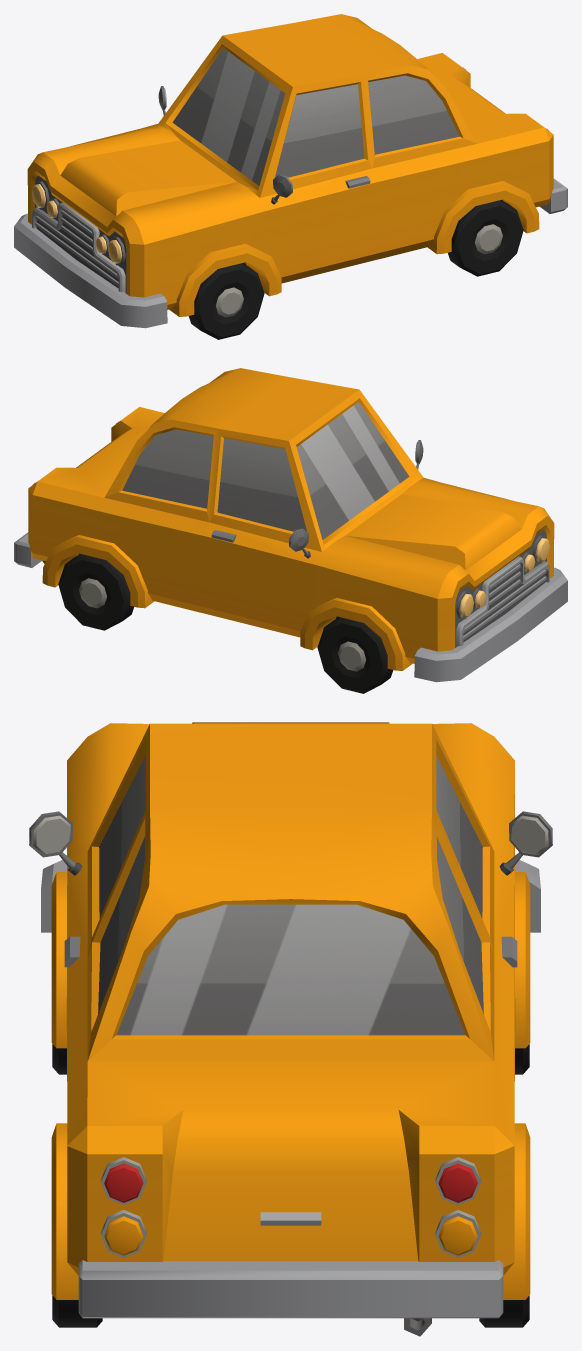
File: Car_7_D.gltf
3 renders of one model, top to bottom at view 1: azimuth 30°, elevation 25°; view 2: azimuth 150°, elevation 25°; view 3: azimuth 270°, elevation 25°, orthographic. The views are drawn at different scales.
Parts seen in each view (by area): view 1: Car_7_D, RL, FL; view 2: Car_7_D, RR, FR; view 3: Car_7_D, RL, RR.
Boxes of the visible parts, box(x1,y1,x2,y2) form: Car_7_D: box(14, 14, 567, 328); RL: box(448, 200, 523, 276); FL: box(188, 263, 264, 339); Car_7_D: box(14, 368, 567, 682); RR: box(58, 554, 133, 630); FR: box(317, 617, 393, 693); Car_7_D: box(29, 722, 552, 1336); RL: box(52, 1295, 102, 1327); RR: box(479, 1295, 529, 1327).
Bounding box in the file's own units: 3.38 × 1.52 × 1.7.
3 materials, 3 textured.
